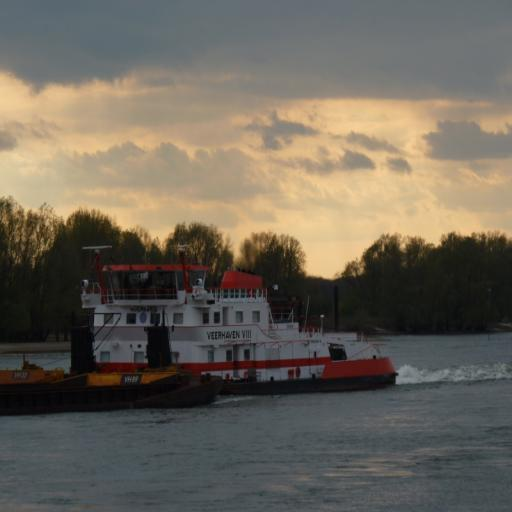tugboat: (63, 243, 407, 406)
